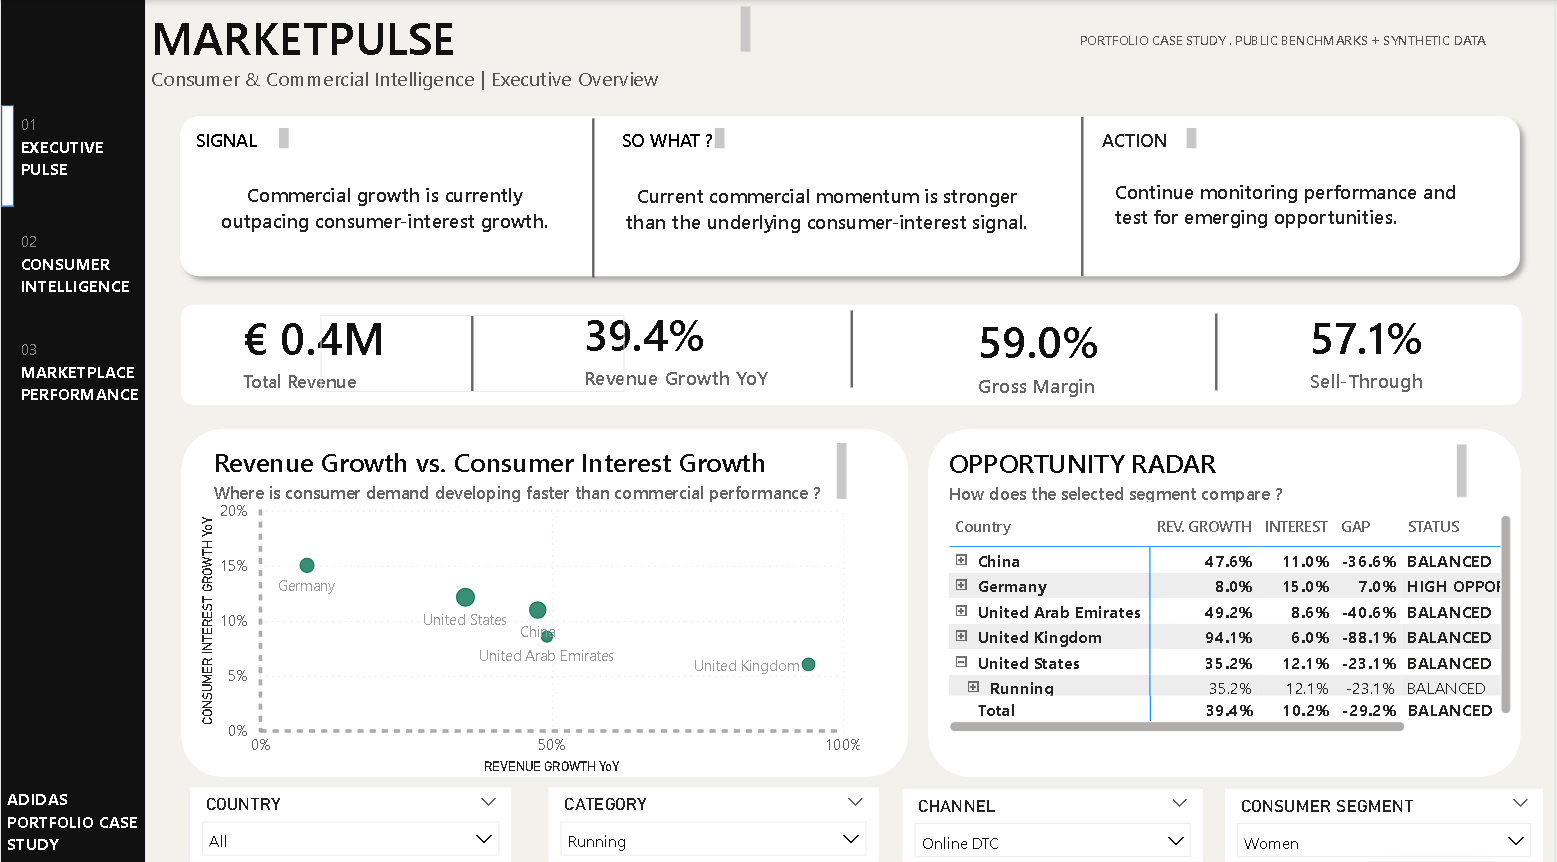

What the dashboard file says about the page in this screenshot:
{"tool":"powerbi","page":{"name":"Executive Pulse","canvas":[1280,720],"ordinal":0},"visuals":[{"type":"shape","box":[755.6,344.7,505.5,304.1],"z":0},{"type":"shape","box":[139.2,344.7,616.4,304.1],"z":1000},{"type":"shape","box":[139.2,242,1121.9,100],"z":2000},{"type":"shape","box":[137.9,86.5,1121.9,150],"z":3000},{"type":"shape","box":[0,0,119,720.5],"z":4000},{"type":"textbox","box":[118.4,0,503.5,67],"z":5000},{"type":"textbox","box":[118.4,48.5,467.9,38.5],"z":6000},{"type":"textbox","box":[506.9,16.2,721.8,32.4],"z":7000},{"type":"cardVisual","fields":{"Data":["Fact_Sales.Total Revenue"]},"box":[170.3,236.6,250.1,105.4],"z":8000},{"type":"cardVisual","fields":{"Data":["Fact_Sales.Revenue YoY %"]},"box":[451.5,233.8,248.7,105.4],"z":9000},{"type":"cardVisual","fields":{"Data":["Fact_Sales.Gross Margin %"]},"box":[775.9,239.3,251.4,105.4],"z":10000},{"type":"cardVisual","fields":{"Data":["Fact_Sales.Sell-Through %"]},"box":[1048.9,236.6,231.1,105.4],"z":11000},{"type":"textbox","box":[170.3,359.6,531.2,58.1],"z":12000},{"type":"scatterChart","fields":{"X":["Fact_Sales.Revenue YoY %"],"Y":["Fact_Sales.Consumer Interest YoY %"],"Category":["Fact_Sales.Country"],"Size":["Fact_Sales.Total Revenue"]},"box":[159.5,405.5,552.9,236.6],"z":13000},{"type":"textbox","box":[867.8,444.7,175.7,102.7],"z":14000},{"type":"textbox","box":[554.2,547.4,187.9,5.4],"z":15000},{"type":"slicer","fields":{"Values":["Fact_Sales.Country"]},"box":[155.4,648.8,264.9,62.2],"z":16000},{"type":"slicer","fields":{"Values":["Fact_Sales.Category"]},"box":[451.5,648.8,271.7,62.2],"z":17000},{"type":"slicer","fields":{"Values":["Fact_Sales.Channel"]},"box":[742.1,650.2,247.4,60.8],"z":18000},{"type":"slicer","fields":{"Values":["Fact_Sales.Consumer_Segment"]},"box":[1008.4,650.2,262.2,60.8],"z":19000},{"type":"pivotTable","fields":{"Rows":["Fact_Sales.Country","Fact_Sales.Category","Fact_Sales.Channel","Fact_Sales.Consumer_Segment"],"Values":["Fact_Sales.Revenue YoY %","Fact_Sales.Consumer Interest YoY %","Fact_Sales.Opportunity Gap","Fact_Sales.Opportunity Status"]},"box":[775.9,419,473.1,189.2],"z":20000},{"type":"textbox","box":[775.9,360.9,436.6,56.8],"z":21000},{"type":"cardVisual","fields":{"Data":["Fact_Sales.Dynamic Action"]},"box":[888.1,106.8,371.7,120.3],"z":22000},{"type":"cardVisual","fields":{"Data":["Fact_Sales.Dynamic Signal"]},"box":[137.9,110.8,356.9,116.2],"z":23000},{"type":"cardVisual","fields":{"Data":["Fact_Sales.Dynamic Interpretation"]},"box":[485.3,106.8,390.6,127.1],"z":24000},{"type":"textbox","box":[10.8,86.5,89.2,83.8],"z":25000,"group":"g1"},{"type":"textbox","box":[0,642.1,202.8,78.4],"z":25000},{"type":"shape","box":[0,86.5,10.8,83.8],"z":26000,"group":"g1"},{"type":"shape","box":[389.3,97.3,197.4,131.1],"z":26000},{"type":"shape","box":[792.1,96,197.4,131.1],"z":27000},{"type":"textbox","box":[10.8,182.5,108.1,89.2],"z":27000,"group":"g1"},{"type":"textbox","box":[155.4,100,86.5,28.4],"z":28000},{"type":"textbox","box":[10.8,271.7,108.1,87.9],"z":28000,"group":"g1"},{"type":"textbox","box":[506.9,100,94.6,28.4],"z":29000},{"type":"textbox","box":[901.6,100,87.9,28.4],"z":30000},{"type":"shape","box":[263.6,259.5,250.1,63.5],"z":31000},{"type":"shape","box":[575.8,255.5,250.1,63.5],"z":32000},{"type":"shape","box":[875.9,258.2,250.1,63.5],"z":33000},{"type":"group","id":"g1","title":"Group 1","box":[0,86.5,119,273],"z":34000}]}

Visuals, with their boxes on the page's 1280x720 design canvas (x1, y1, x2, y2). These are canvas units, not pixel positions in the 1557x862 screenshot, which may show the page scaled, cropped or inside an application window:
shape: left=756, top=345, right=1261, bottom=649
shape: left=139, top=345, right=756, bottom=649
shape: left=139, top=242, right=1261, bottom=342
shape: left=138, top=86, right=1260, bottom=236
shape: left=0, top=0, right=119, bottom=720
textbox: left=118, top=0, right=622, bottom=67
textbox: left=118, top=48, right=586, bottom=87
textbox: left=507, top=16, right=1229, bottom=49
cardVisual - Fact_Sales.Total Revenue: left=170, top=237, right=420, bottom=342
cardVisual - Fact_Sales.Revenue YoY %: left=452, top=234, right=700, bottom=339
cardVisual - Fact_Sales.Gross Margin %: left=776, top=239, right=1027, bottom=345
cardVisual - Fact_Sales.Sell-Through %: left=1049, top=237, right=1280, bottom=342
textbox: left=170, top=360, right=702, bottom=418
scatterChart - Fact_Sales.Revenue YoY % x Fact_Sales.Consumer Interest YoY %: left=160, top=406, right=712, bottom=642
textbox: left=868, top=445, right=1044, bottom=547
textbox: left=554, top=547, right=742, bottom=553
slicer - Fact_Sales.Country: left=155, top=649, right=420, bottom=711
slicer - Fact_Sales.Category: left=452, top=649, right=723, bottom=711
slicer - Fact_Sales.Channel: left=742, top=650, right=990, bottom=711
slicer - Fact_Sales.Consumer_Segment: left=1008, top=650, right=1271, bottom=711
pivotTable - Fact_Sales.Country x Fact_Sales.Category: left=776, top=419, right=1249, bottom=608
textbox: left=776, top=361, right=1212, bottom=418
cardVisual - Fact_Sales.Dynamic Action: left=888, top=107, right=1260, bottom=227
cardVisual - Fact_Sales.Dynamic Signal: left=138, top=111, right=495, bottom=227
cardVisual - Fact_Sales.Dynamic Interpretation: left=485, top=107, right=876, bottom=234
textbox: left=11, top=86, right=100, bottom=170
textbox: left=0, top=642, right=203, bottom=720
shape: left=0, top=86, right=11, bottom=170
shape: left=389, top=97, right=587, bottom=228
shape: left=792, top=96, right=990, bottom=227
textbox: left=11, top=182, right=119, bottom=272
textbox: left=155, top=100, right=242, bottom=128
textbox: left=11, top=272, right=119, bottom=360
textbox: left=507, top=100, right=602, bottom=128
textbox: left=902, top=100, right=990, bottom=128
shape: left=264, top=260, right=514, bottom=323
shape: left=576, top=256, right=826, bottom=319
shape: left=876, top=258, right=1126, bottom=322
"Group 1" group: left=0, top=86, right=119, bottom=360
